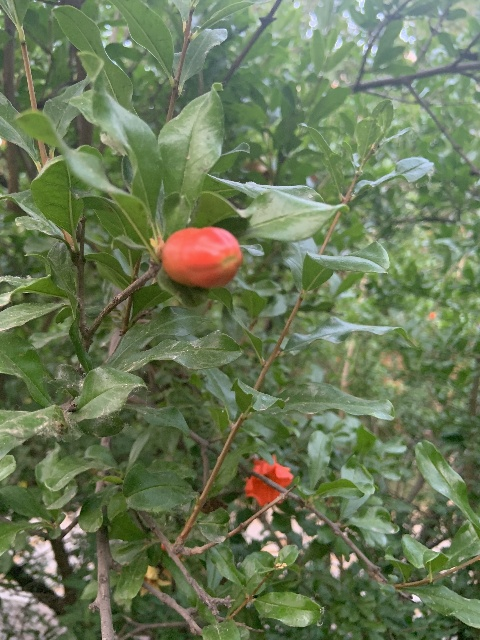bud: (161, 226, 242, 289)
flower: (244, 452, 293, 506)
